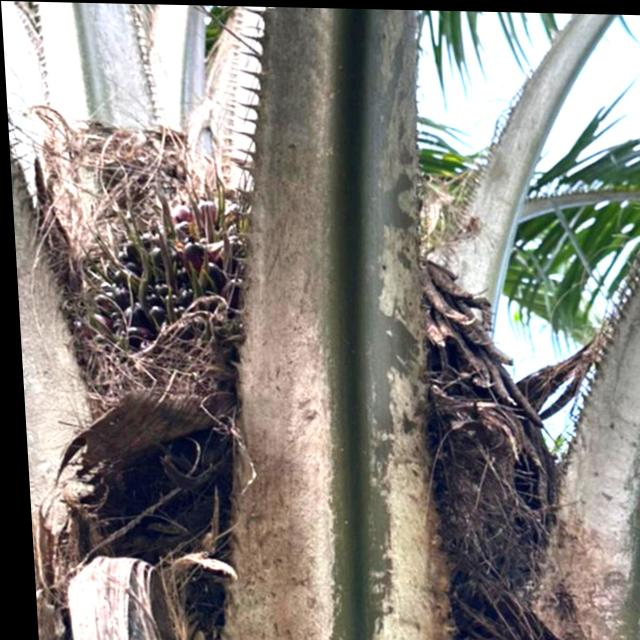ripe: (61, 162, 292, 425)
